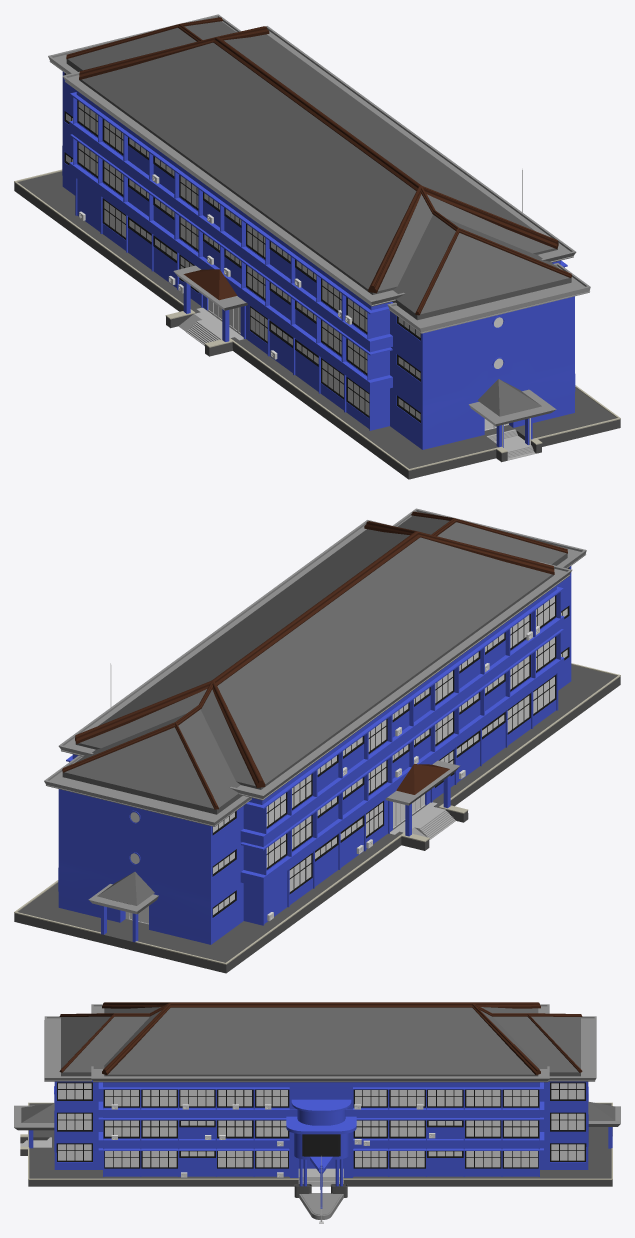
3 renders of one model, top to bottom at view 1: azimuth 30°, elevation 25°; view 2: azimuth 150°, elevation 25°; view 3: azimuth 270°, elevation 25°, orthographic. The views are drawn at different scales.
Parts seen in each view (by area): view 1: Cube.012, Gedung Biru, Cube.011, Plane.002, Cube.008, Gedung Biru.002, Plane.080, Gedung Biru.001, Plane.077, Cube.051, Cube.050, Cube.040 (+4 smaller); view 2: Cube.012, Gedung Biru, Cube.011, Plane.002, Cube.008, Gedung Biru.002, Plane.080, Gedung Biru.003, Plane.077, Cube.040, Cube.047, Cube.041 (+4 smaller); view 3: Cube.012, Gedung Biru, Plane.002, Plane.080, Cube.011, Cube.008, Gedung Biru.002, Plane.077, Gedung Biru.001, Gedung Biru.003, Gedung Biru.004, Plane.001 (+9 smaller).
Boxes of the visible parts, left/top/right/bottom form: Cube.012: left=66, top=21, right=571, bottom=320; Gedung Biru: left=62, top=71, right=575, bottom=449; Cube.011: left=14, top=171, right=620, bottom=479; Plane.002: left=66, top=74, right=420, bottom=420; Cube.008: left=66, top=17, right=571, bottom=315; Gedung Biru.002: left=62, top=26, right=576, bottom=306; Plane.080: left=64, top=73, right=420, bottom=422; Gedung Biru.001: left=387, top=263, right=590, bottom=333; Plane.077: left=14, top=169, right=620, bottom=470; Cube.051: left=477, top=379, right=541, bottom=416; Cube.050: left=469, top=389, right=556, bottom=426; Cube.040: left=186, top=307, right=243, bottom=345; Cube.012: left=62, top=515, right=567, bottom=814; Gedung Biru: left=58, top=566, right=571, bottom=944; Cube.011: left=14, top=665, right=620, bottom=973; Plane.002: left=213, top=596, right=567, bottom=914; Cube.008: left=62, top=511, right=567, bottom=809; Gedung Biru.002: left=58, top=520, right=572, bottom=800; Plane.080: left=212, top=567, right=569, bottom=917; Gedung Biru.003: left=44, top=755, right=251, bottom=826; Plane.077: left=14, top=663, right=620, bottom=964; Cube.040: left=390, top=802, right=456, bottom=839; Cube.047: left=97, top=872, right=154, bottom=905; Cube.041: left=396, top=764, right=449, bottom=794; Cube.012: left=61, top=1007, right=580, bottom=1076; Gedung Biru: left=54, top=1080, right=588, bottom=1177; Plane.002: left=58, top=1083, right=584, bottom=1167; Plane.080: left=56, top=1082, right=586, bottom=1168; Cube.011: left=20, top=1103, right=612, bottom=1186; Cube.008: left=59, top=1002, right=582, bottom=1075; Gedung Biru.002: left=91, top=1004, right=549, bottom=1082; Plane.077: left=20, top=1102, right=612, bottom=1179; Gedung Biru.001: left=44, top=1016, right=91, bottom=1081; Gedung Biru.003: left=548, top=1016, right=596, bottom=1081; Gedung Biru.004: left=286, top=1116, right=356, bottom=1134; Plane.001: left=302, top=1134, right=340, bottom=1156.
Size of the model in its own units: 203 by 115 by 425.
